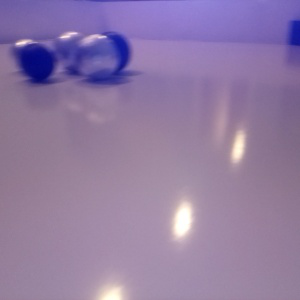alive_ball: (75, 34, 118, 80), (54, 31, 94, 72), (11, 38, 41, 68)
dead_ball: (92, 32, 131, 74), (18, 43, 56, 81)
